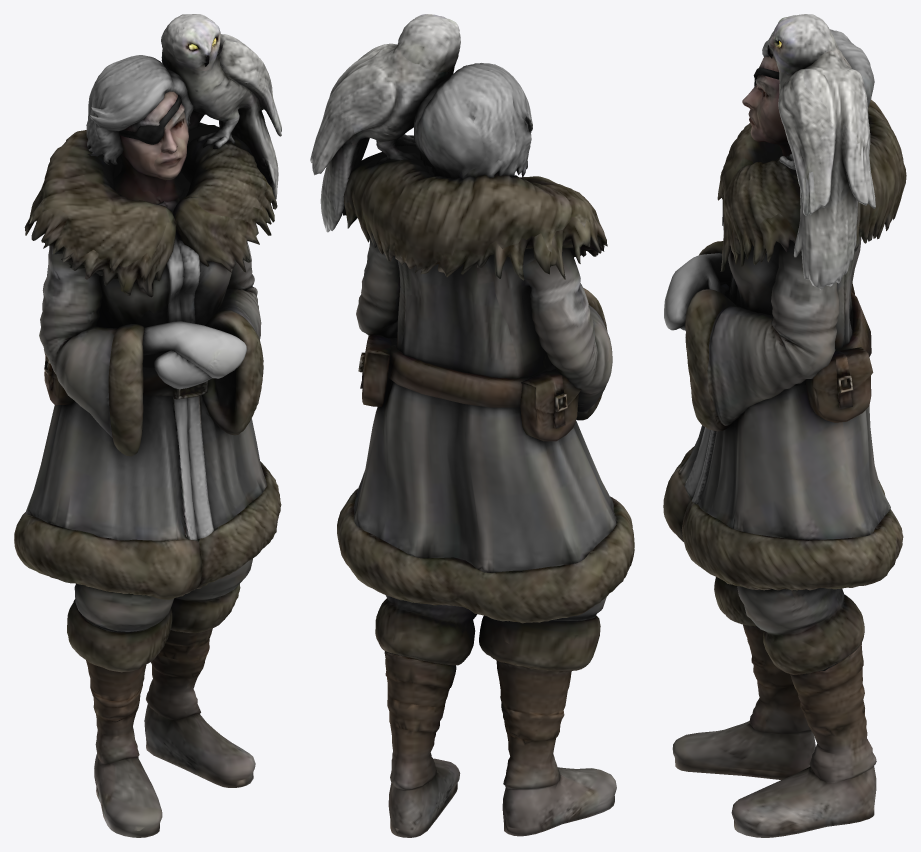
File: MZ4250 - Vellyne Harpell.glb
3 views of the same model, side by side, from view 1: azimuth 30°, elevation 25°; view 2: azimuth 150°, elevation 25°; view 3: azimuth 270°, elevation 25° (orthographic). The views are drawn at different scales.
Visible parts, largest first — view 1: Body.002; view 2: Body.002; view 3: Body.002.
Part boxes in pixels (left/top/right/bottom): Body.002: left=14, top=14, right=281, bottom=837; Body.002: left=310, top=14, right=634, bottom=837; Body.002: left=663, top=14, right=906, bottom=837.
Size of the model in its own units: 33.15 by 88.81 by 24.45.
1 material, 1 textured.
